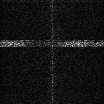wifi: (1, 40, 104, 46)
